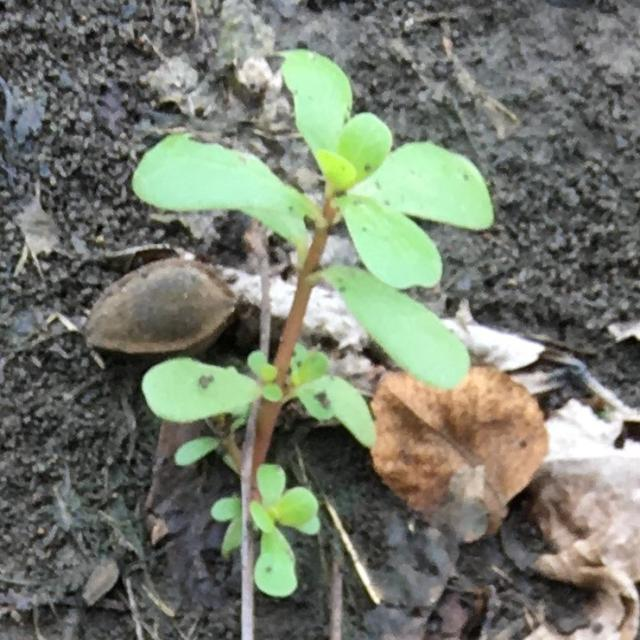Purslane: (132, 49, 495, 596)
